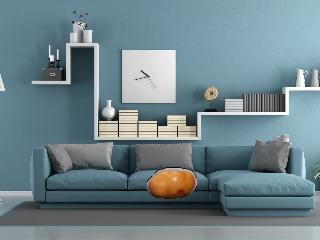potato: (145, 164, 201, 202)
